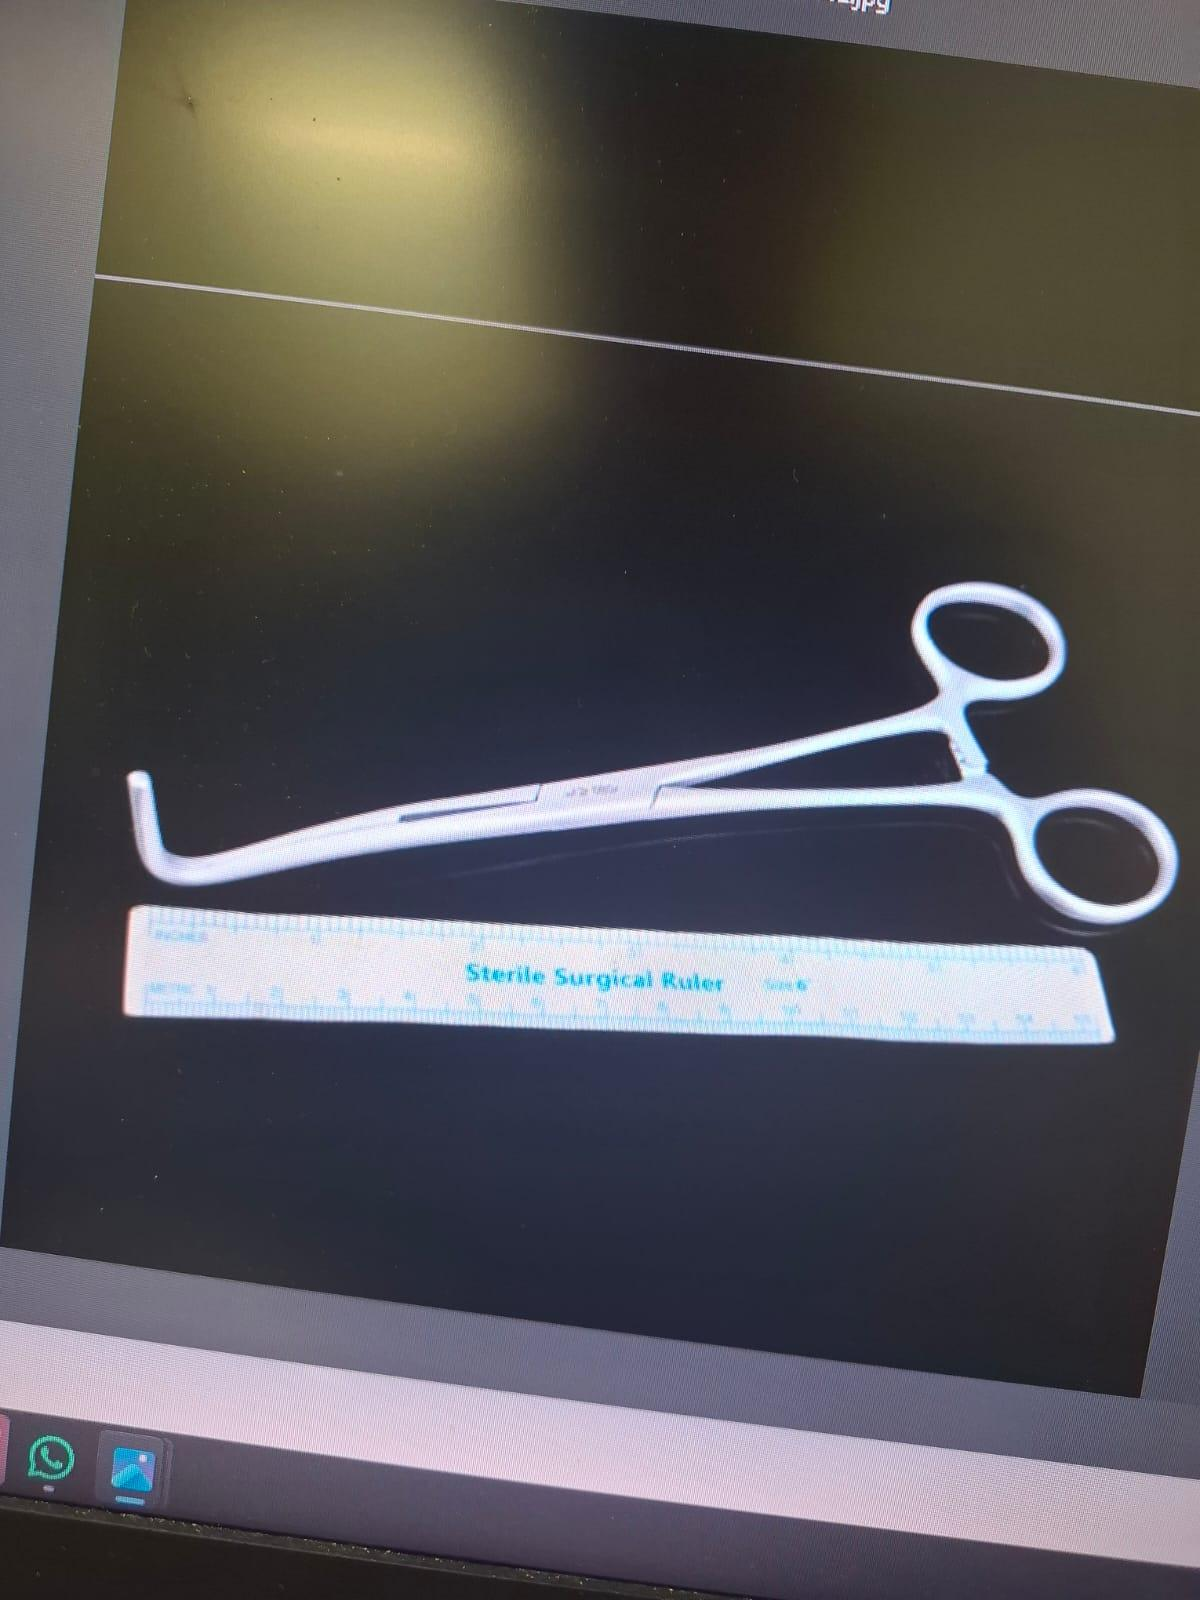Rectangle Cholecystectomy Forceps: (130, 553, 1200, 950)
